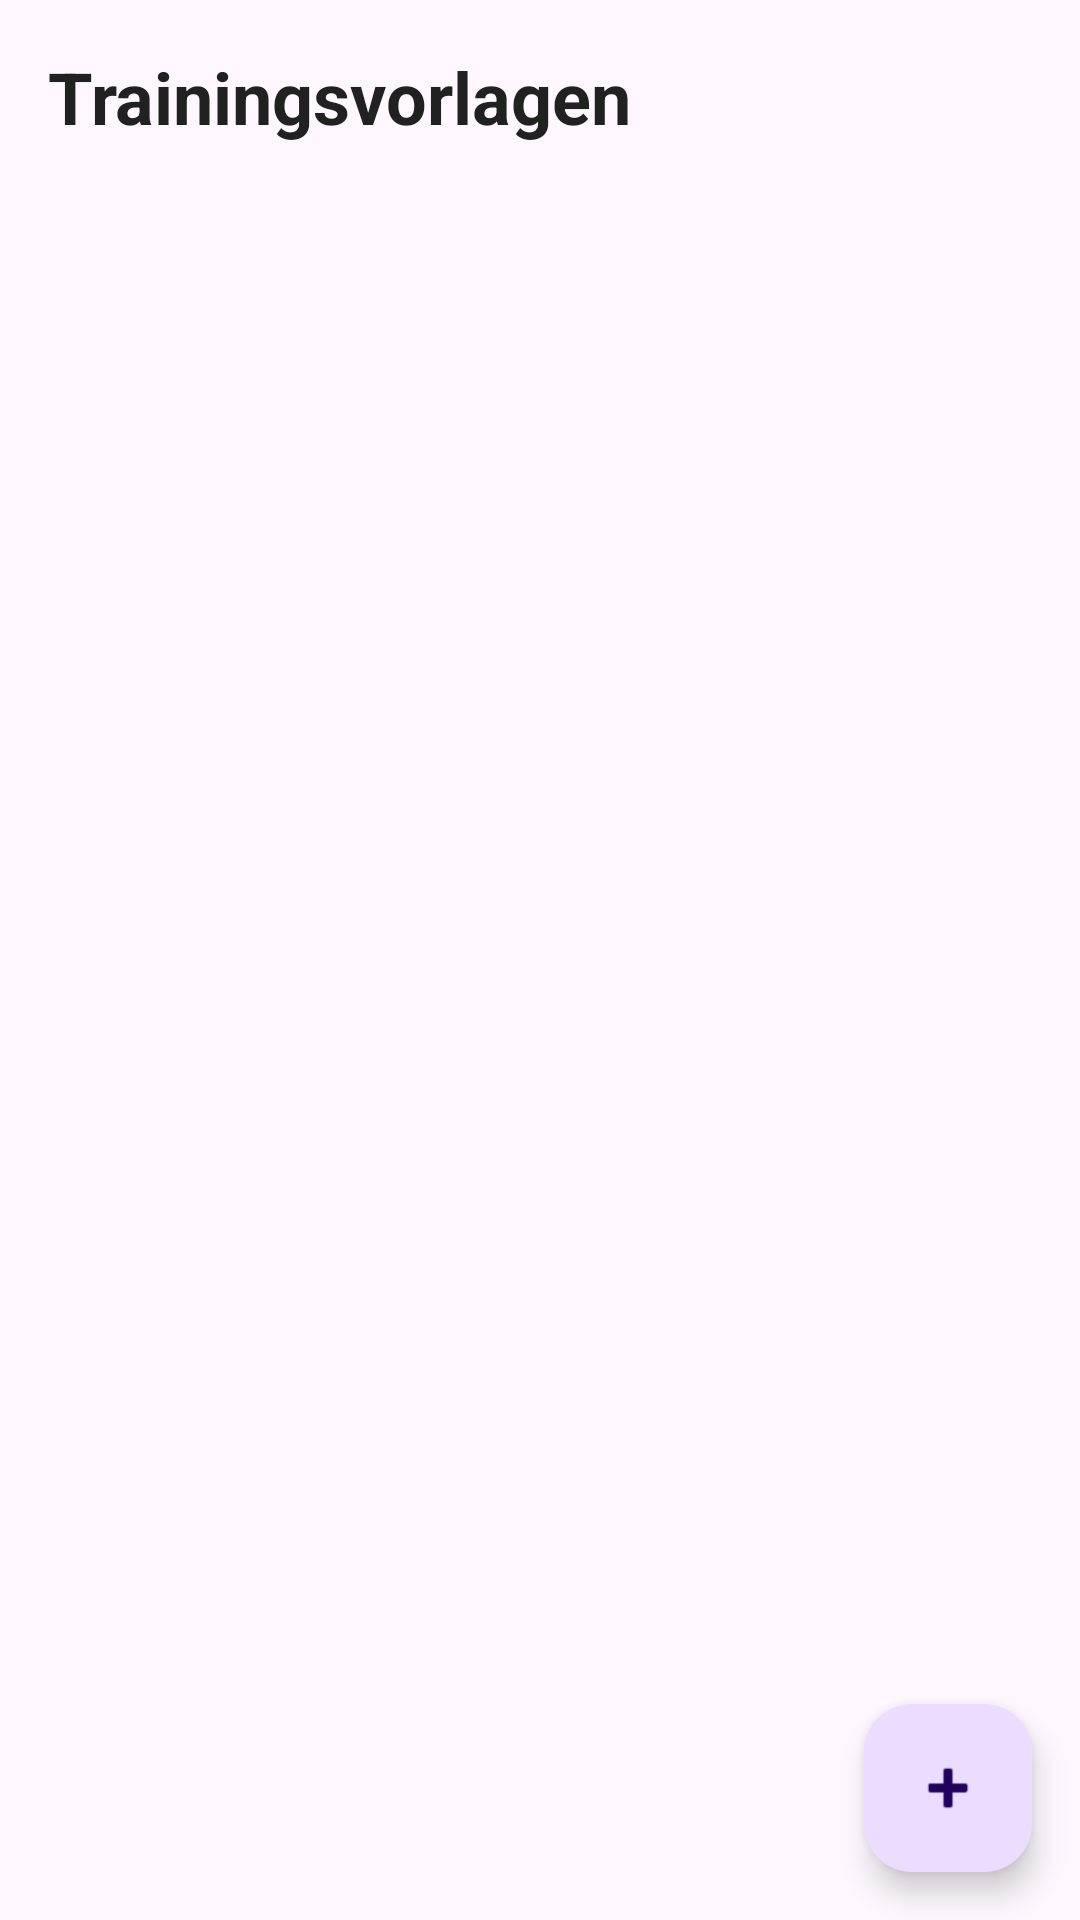

Named icons in this screenshot (1080×1920) and their bounding boxes, (x1, y1, x2, y2):
Neue Vorlage: (864, 1704, 1032, 1872)
